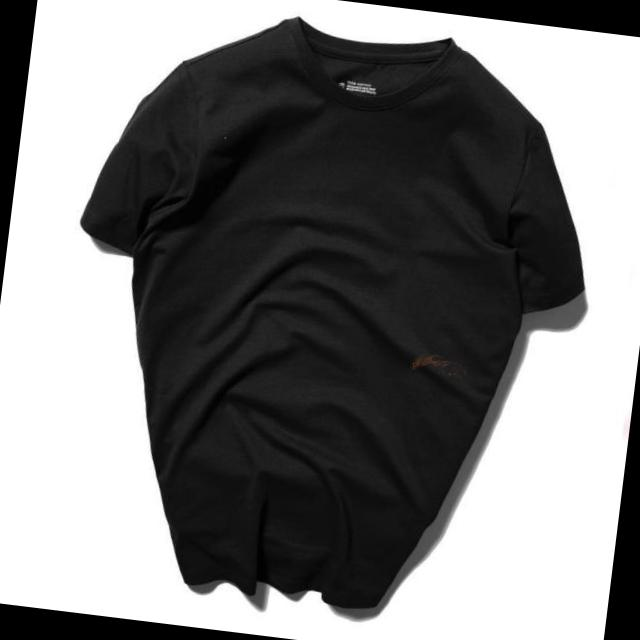stain: (400, 338, 475, 383)
